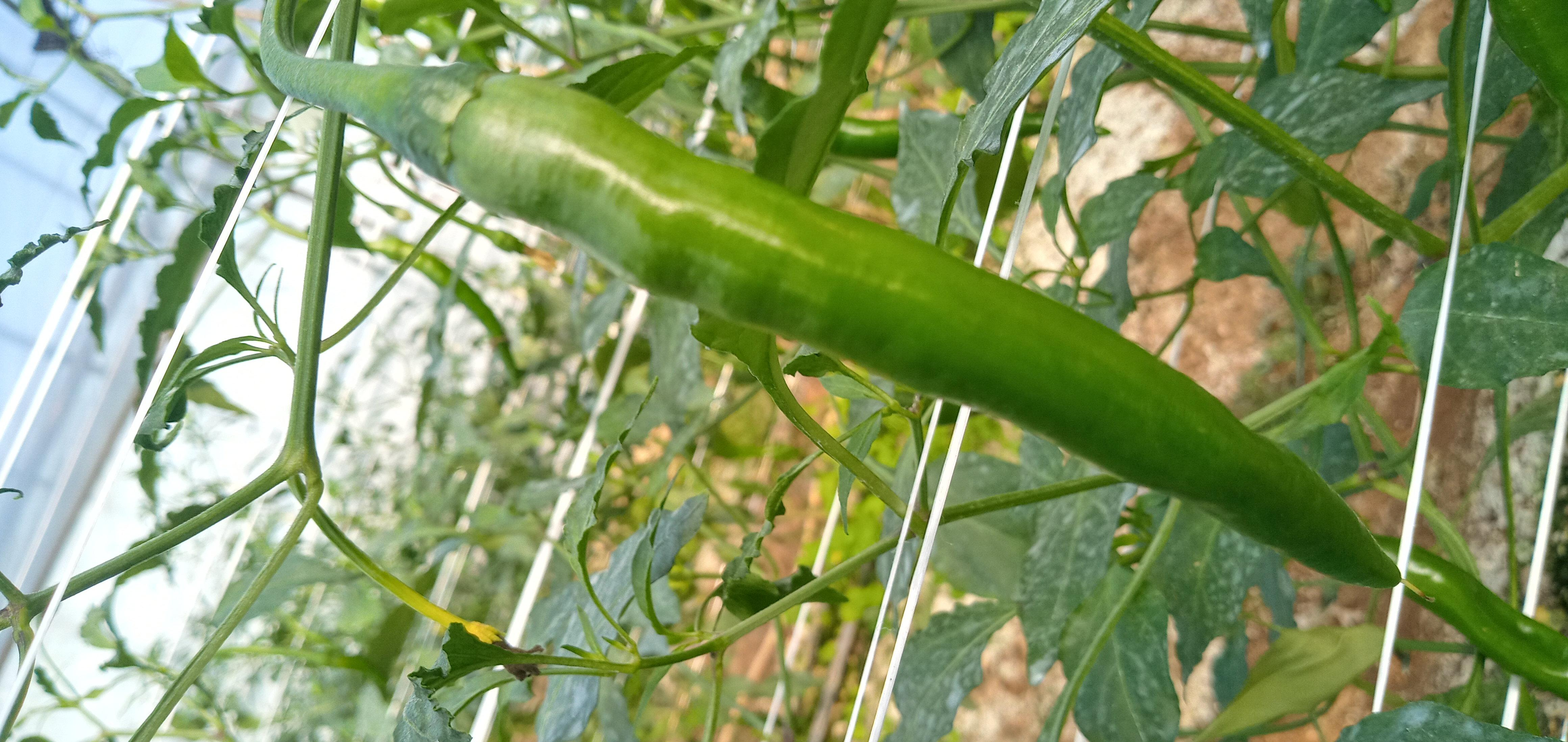Buah Cabai Sehat: (407, 65, 1409, 598)
